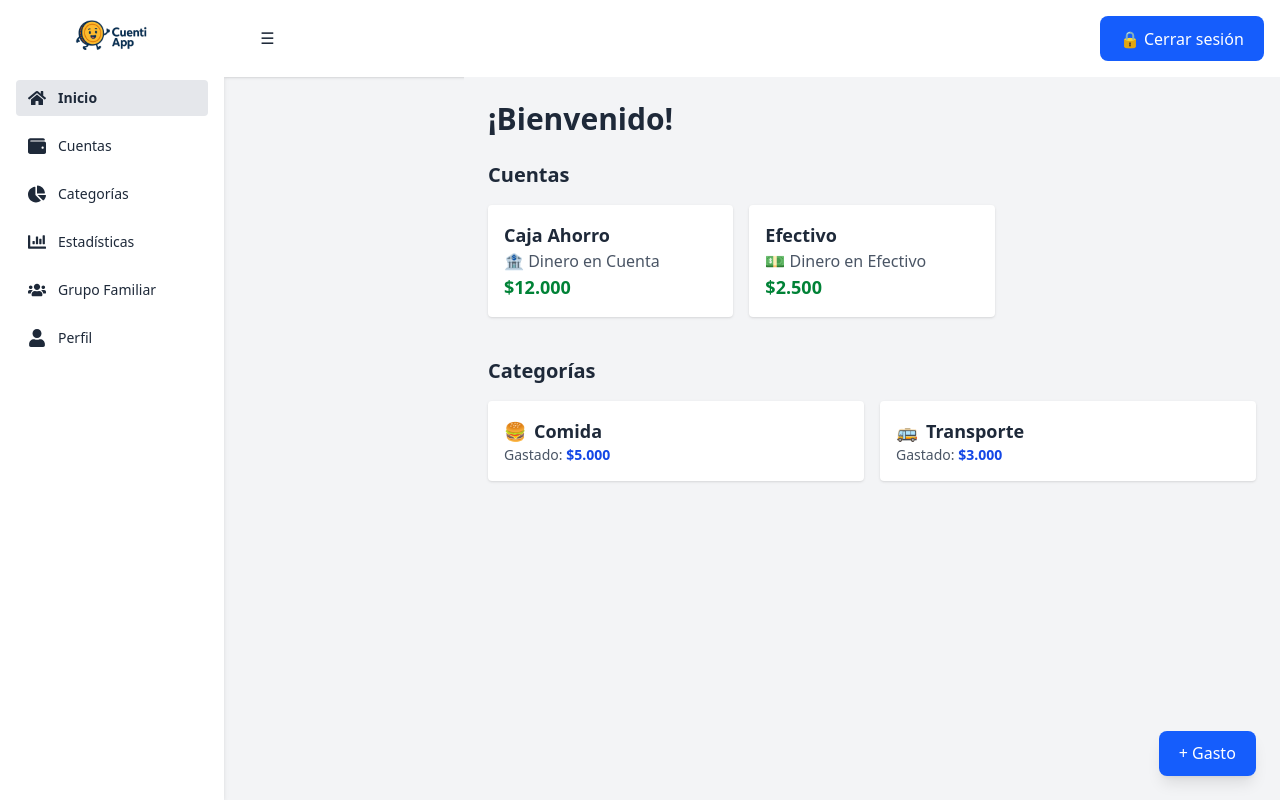
HomePage › guarda un gasto válido y muestra mensaje de éxito
Note: Abrimos el modal
Step 1. Click the button "+ Gasto" → x=1207, y=753, box [1159,731,1256,776]
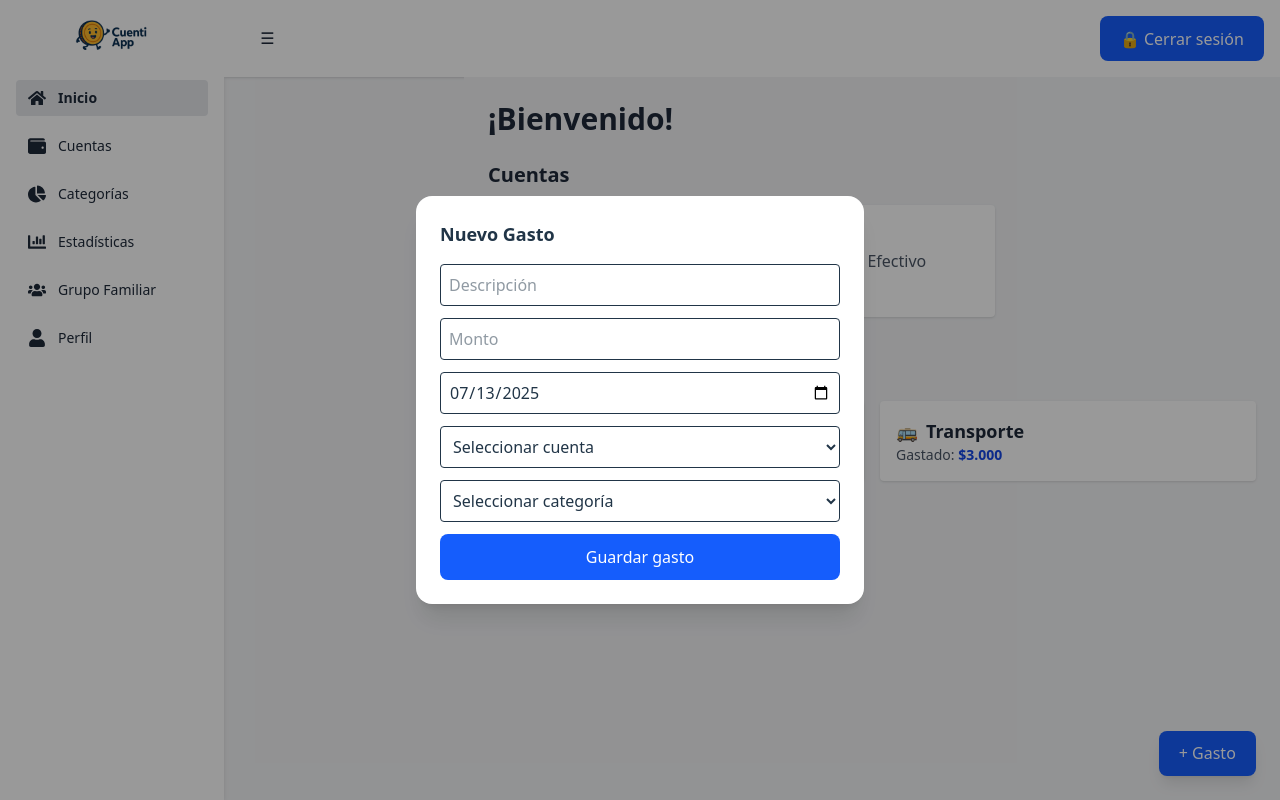
Note: Completamos el formulario
Step 2. Type "Pizza" into the field with placeholder "Descripción" → x=640, y=285, box [440,264,840,306]
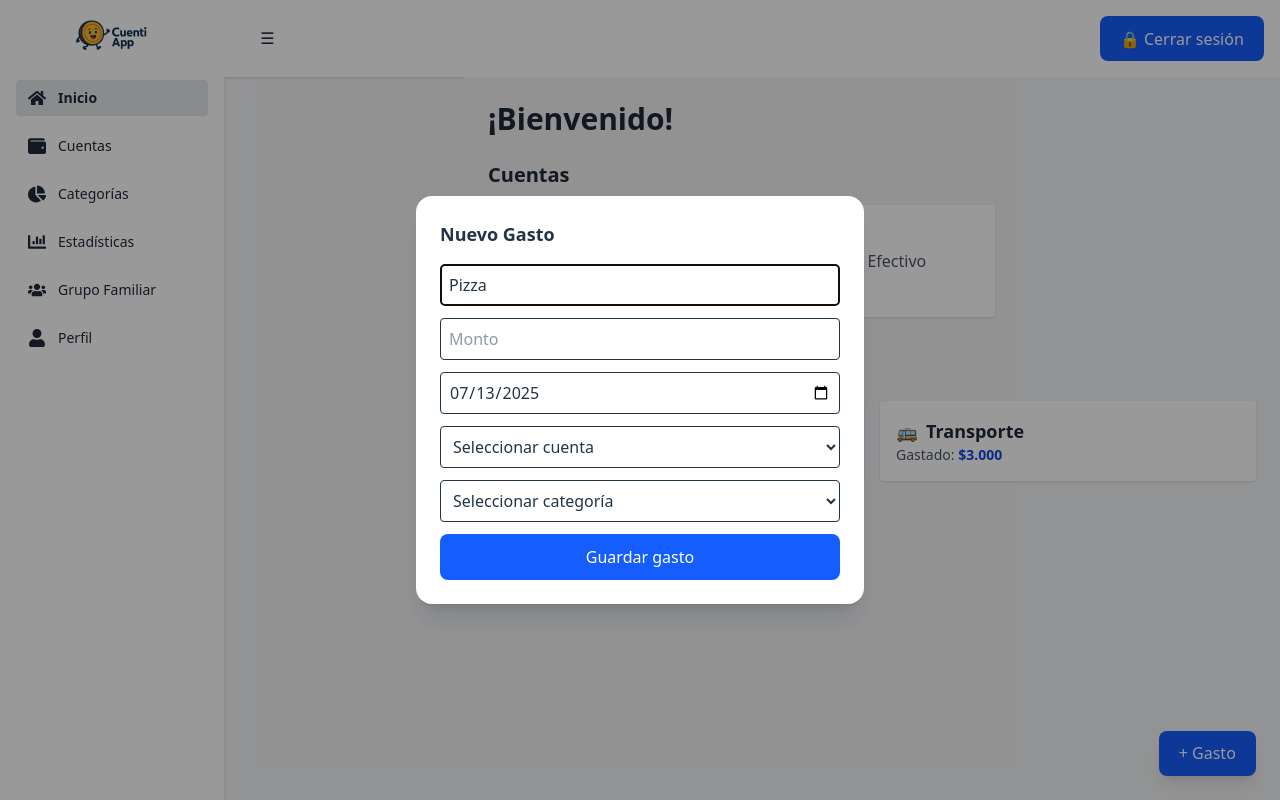
Step 3. Type "1000" into the field with placeholder "Monto" → x=640, y=339, box [440,318,840,360]
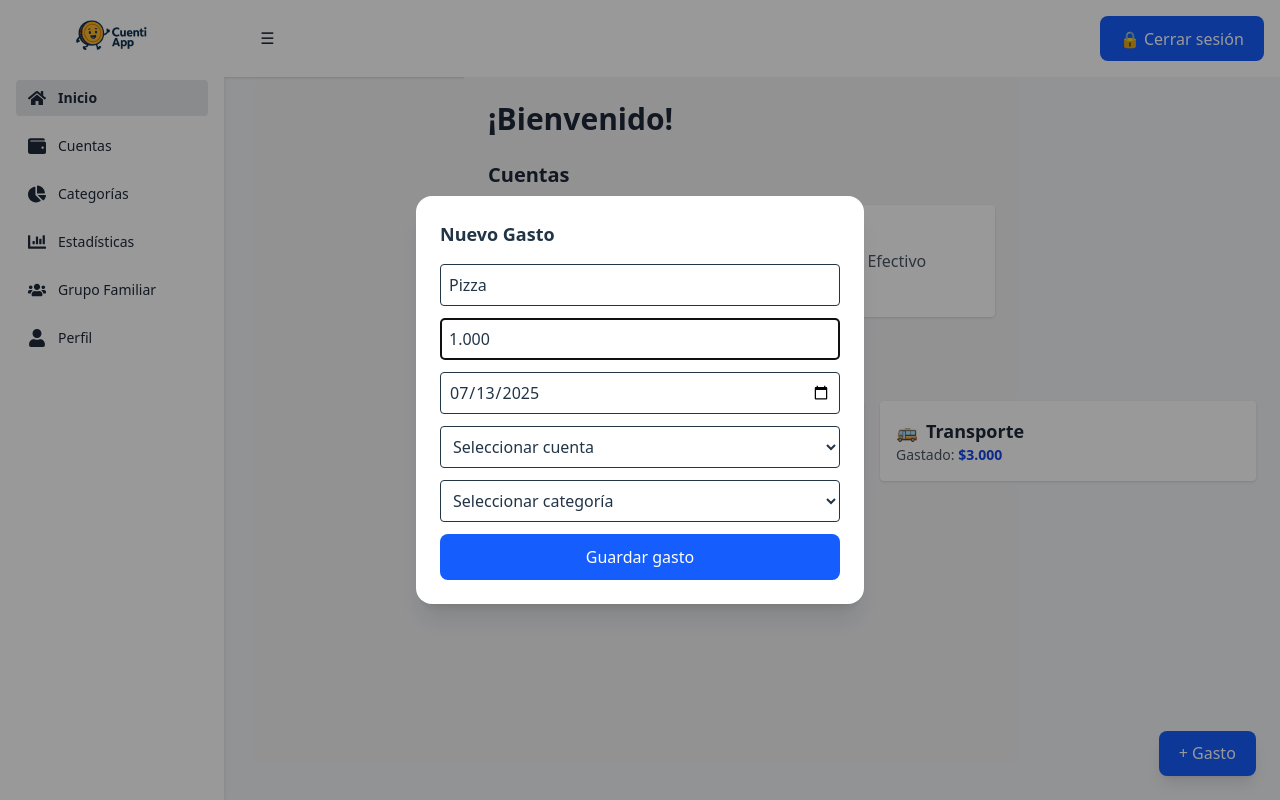
Step 4. Select "Caja Ahorro" in the 1st dropdown → x=640, y=447, box [440,426,840,468]
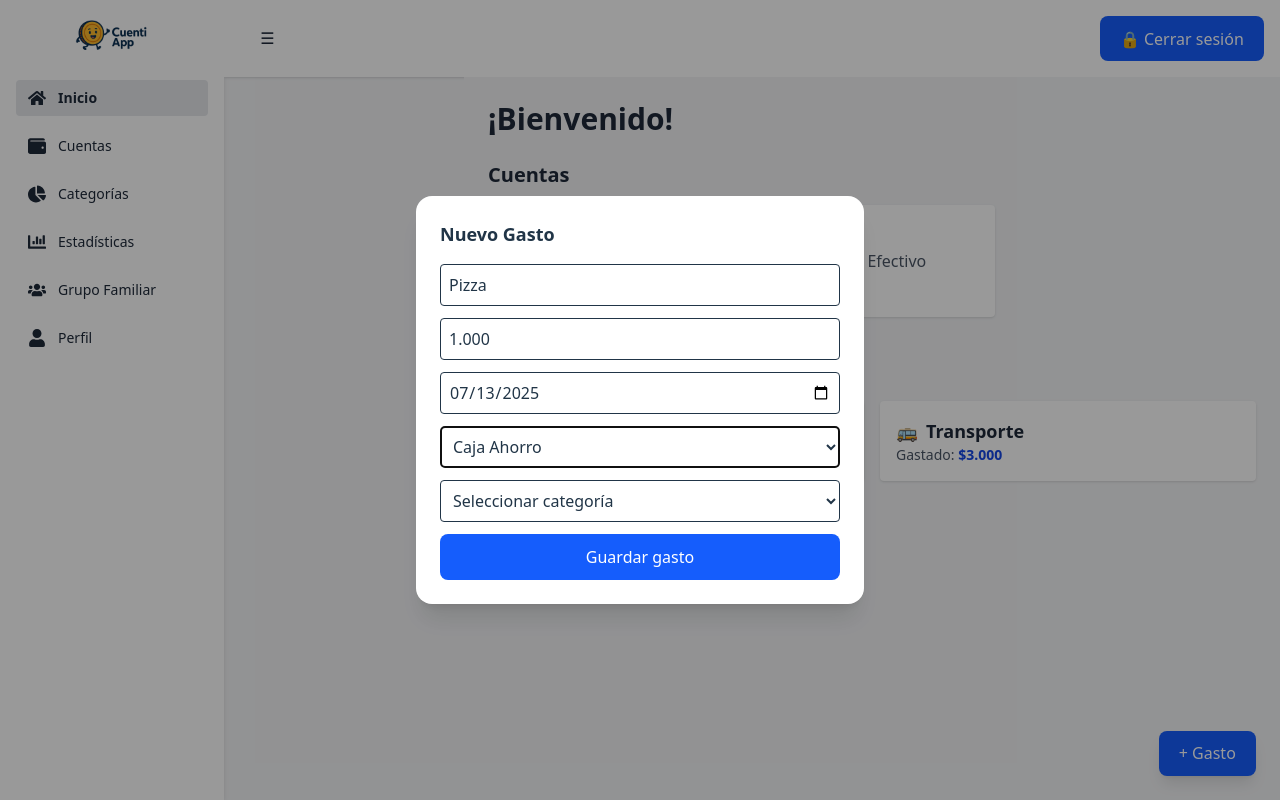
Step 5. Select "Comida" in the 2nd dropdown → x=640, y=501, box [440,480,840,522]
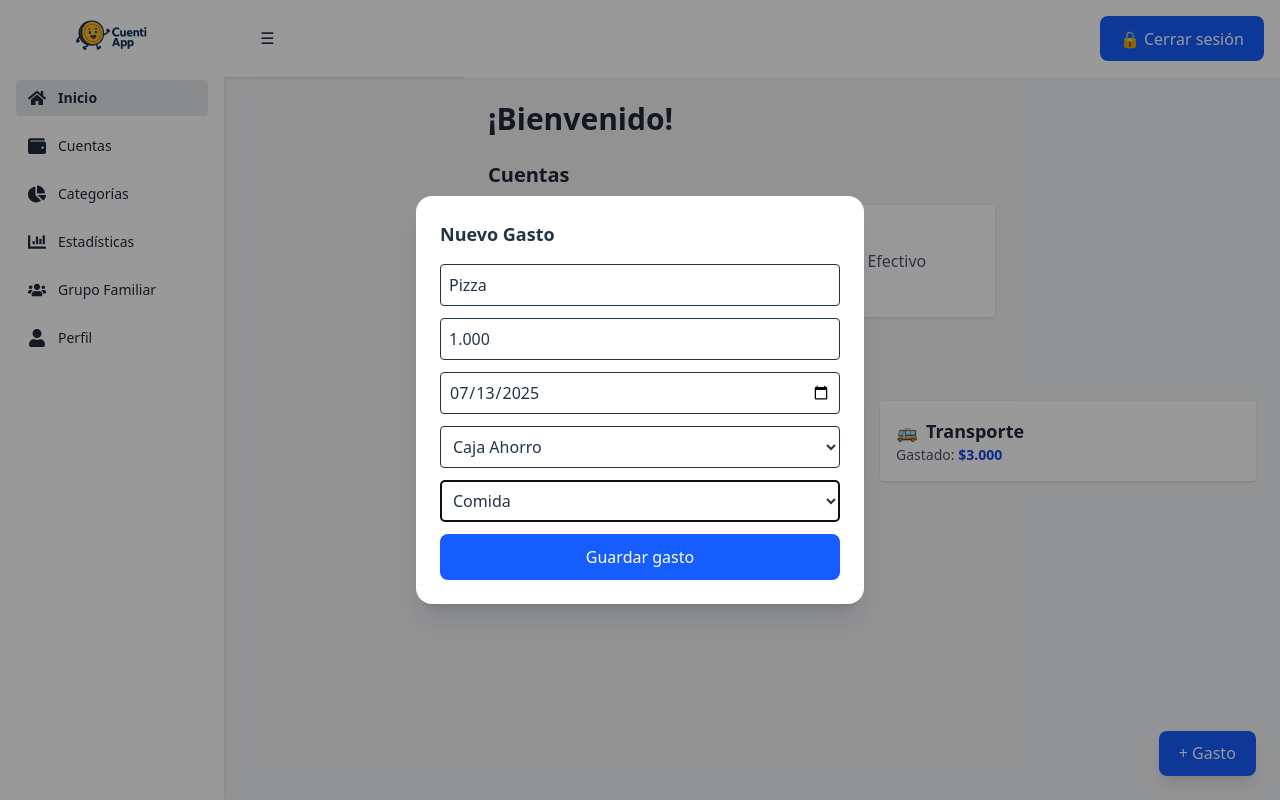
Step 6. Click the button "Guardar gasto" → x=640, y=557, box [440,534,840,580]
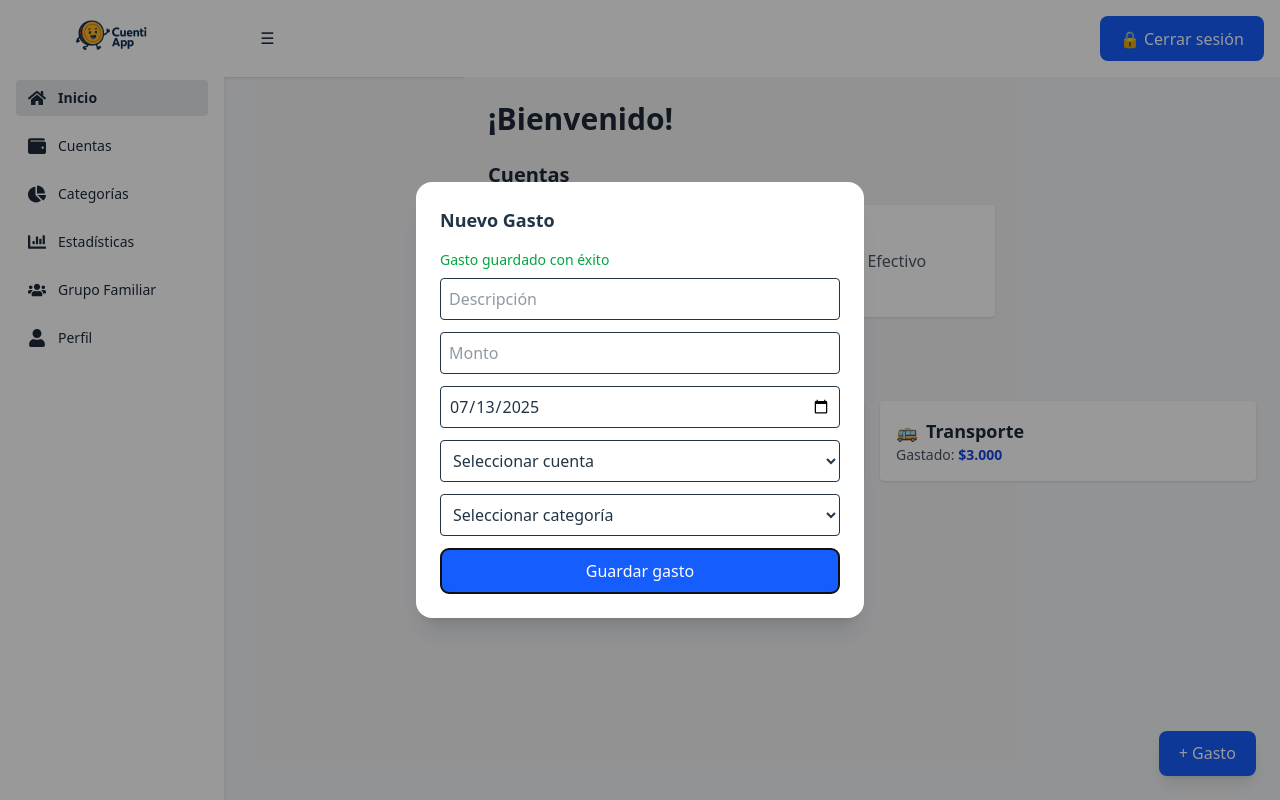
Check: the text "Gasto guardado con éxito" is shown, box [440,250,609,269]
